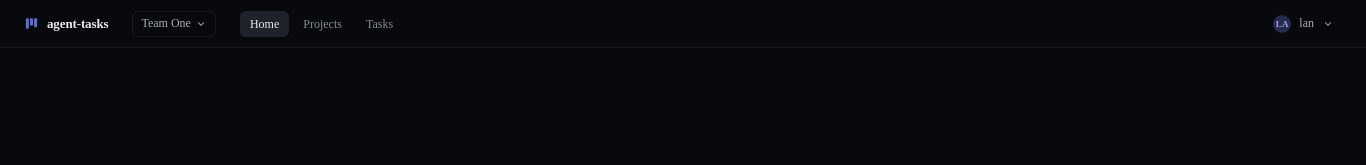
it: AppHeader team switcher › Escape closes the menu
Click the button with aria-label "Switch team".
click(174, 24)  # box [132,10,216,36]
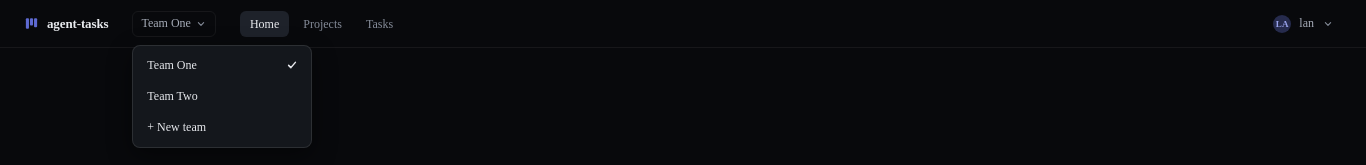
Press Escape in the menu named "Teams", box [137,50,307,142]
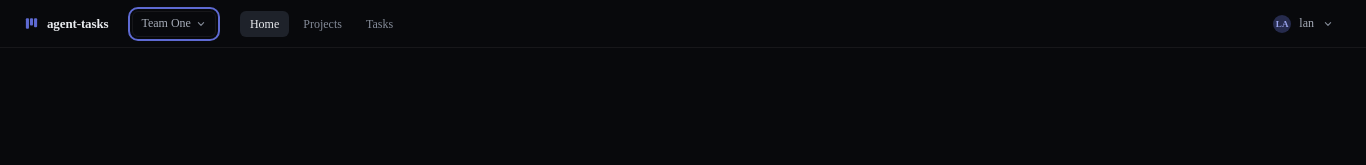
Now the menu "Teams" is gone
